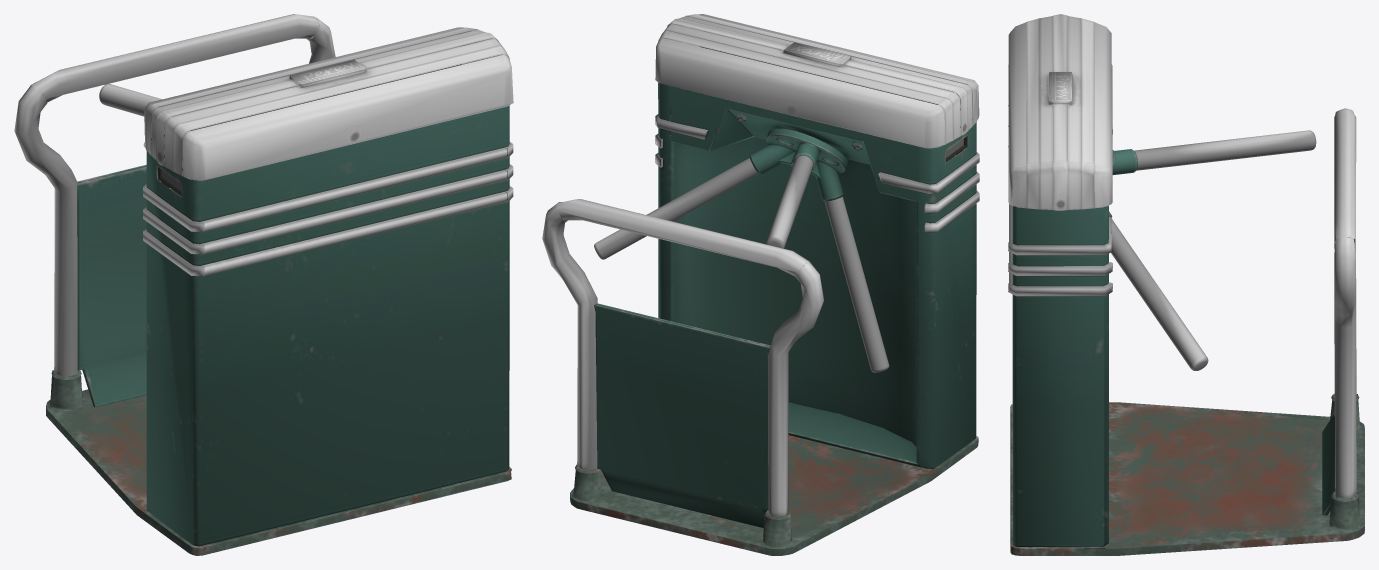
Rendered from sf_turnstile.glb.
The picture shows the model from 3 angles, left to right: view 1: azimuth 30°, elevation 25°; view 2: azimuth 150°, elevation 25°; view 3: azimuth 270°, elevation 25°; orthographic projection. The views are drawn at different scales.
Parts seen in each view (by area): view 1: turnstile_body1_low_turnstile_mat_01_0, turnstile_arm; view 2: turnstile_body1_low_turnstile_mat_01_0, turnstile_arm; view 3: turnstile_body1_low_turnstile_mat_01_0, turnstile_arm.
Part boxes in pixels (left/top/right/bottom): turnstile_body1_low_turnstile_mat_01_0: left=14, top=14, right=513, bottom=555; turnstile_arm: left=99, top=84, right=161, bottom=116; turnstile_body1_low_turnstile_mat_01_0: left=542, top=14, right=979, bottom=555; turnstile_arm: left=594, top=128, right=889, bottom=372; turnstile_body1_low_turnstile_mat_01_0: left=1008, top=14, right=1364, bottom=555; turnstile_arm: left=1109, top=130, right=1316, bottom=370.
Size of the model in its own units: 0.9415 by 1.1 by 0.8965.
1 material, 1 textured.
